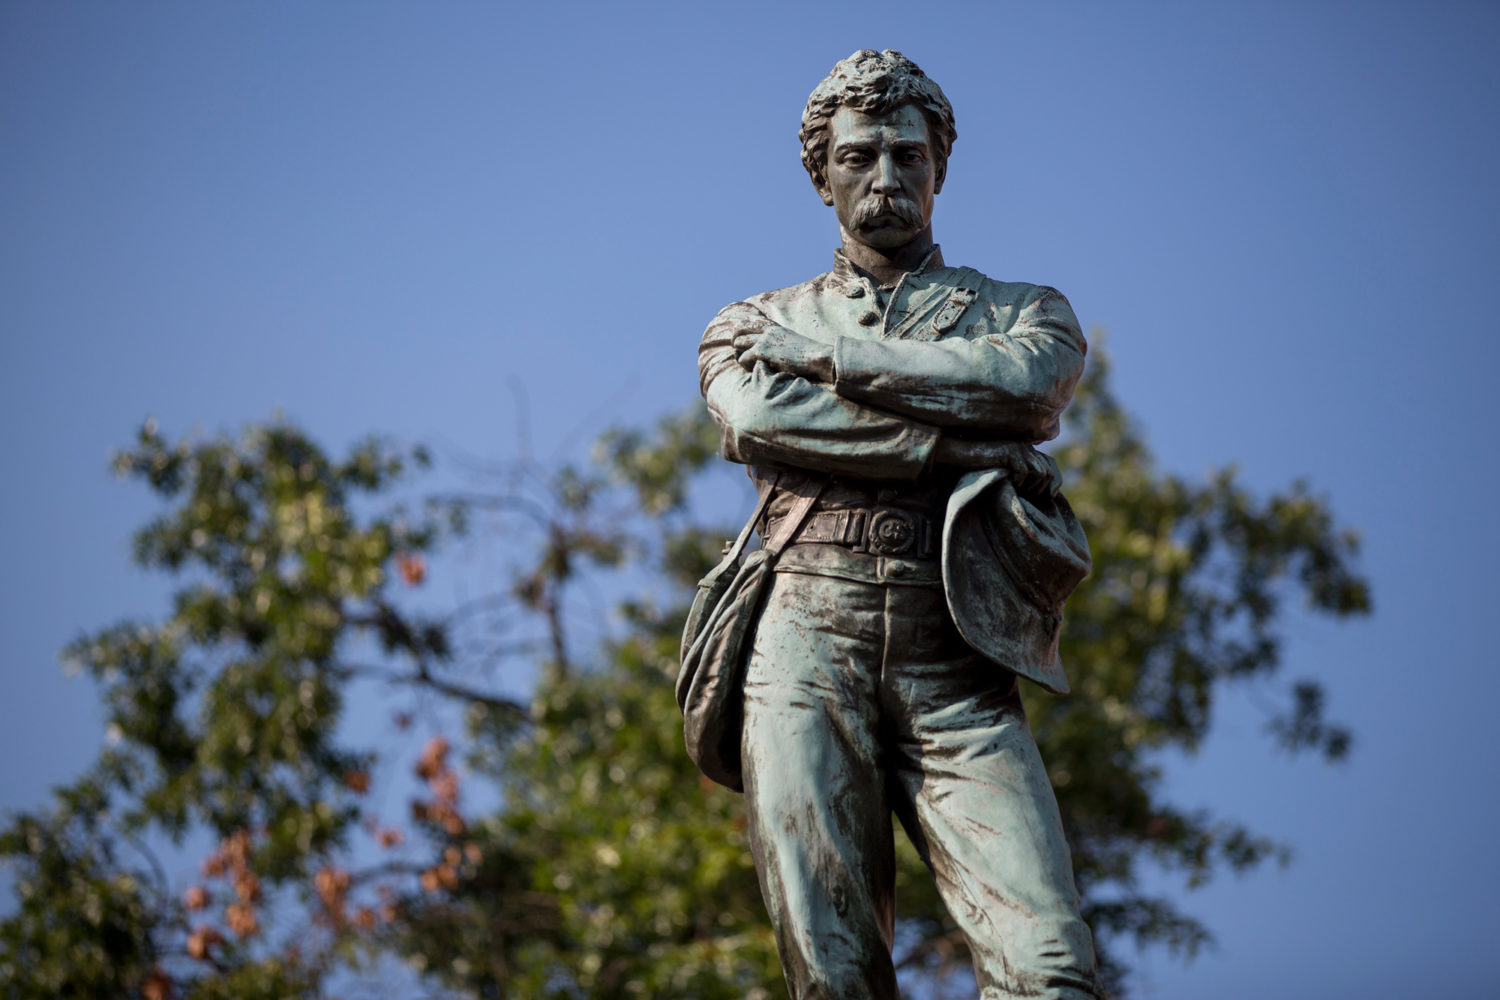person-like: (663, 39, 1113, 1000)
